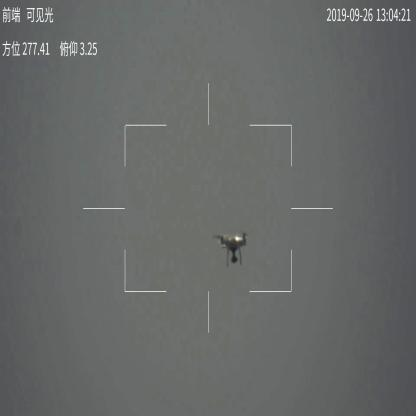uav: (212, 231, 256, 267)
